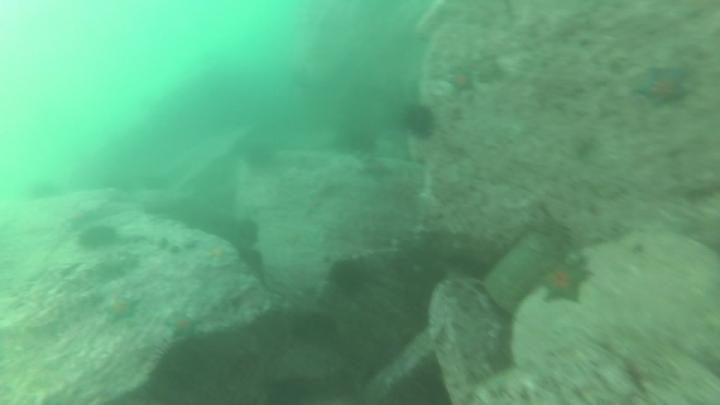echinus: (147, 344, 204, 397), (247, 310, 298, 359), (329, 256, 373, 300), (290, 308, 339, 347), (401, 101, 438, 146), (239, 138, 278, 174), (76, 225, 119, 253), (228, 220, 262, 250), (342, 132, 379, 157), (23, 180, 63, 203), (236, 247, 266, 275)
starfish: (637, 66, 696, 114), (539, 259, 596, 306), (159, 311, 205, 341), (101, 294, 143, 326), (447, 63, 479, 101), (201, 241, 239, 265), (358, 157, 394, 181)
